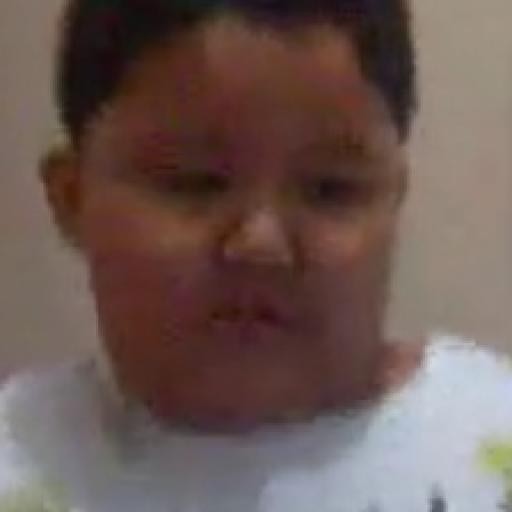Autism: (48, 5, 455, 454)
